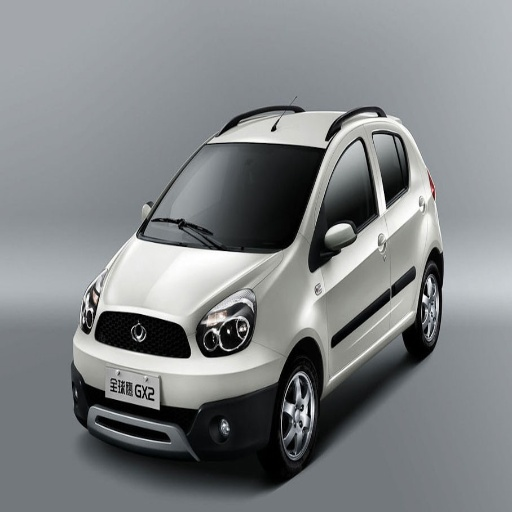front_bumper: (74, 311, 284, 459)
front_glass: (139, 146, 325, 251)
front_left_door: (311, 128, 391, 376)
